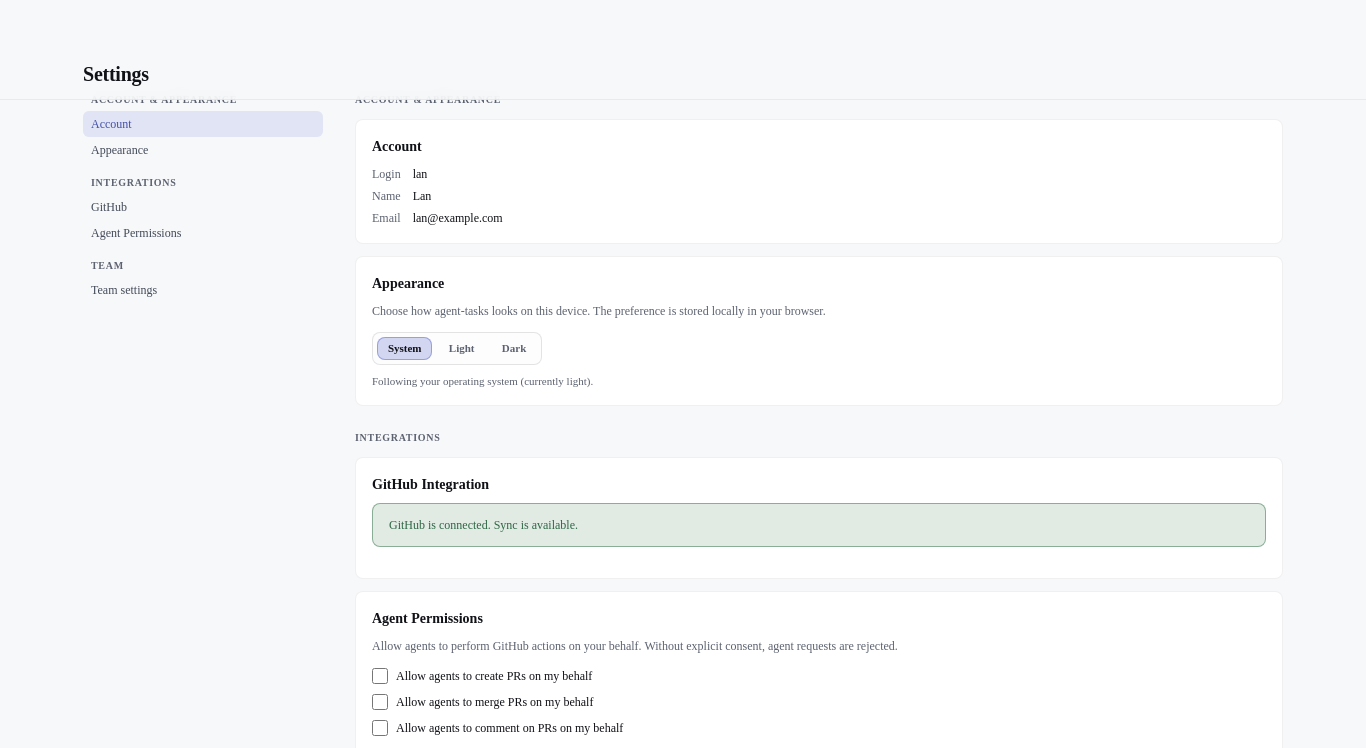
Test: SettingsPage (personal) › reports a failed delegation save inside the Agent Permissions card
This screenshot has width=1366, height=748.
expect the heading "Account" is shown: met, box [372, 139, 422, 154]
Step 1. Click the checkbox labelled "Allow agents to create PRs on my behalf" → {"x": 380, "y": 676}, box [372, 668, 388, 684]
(page scrolled)
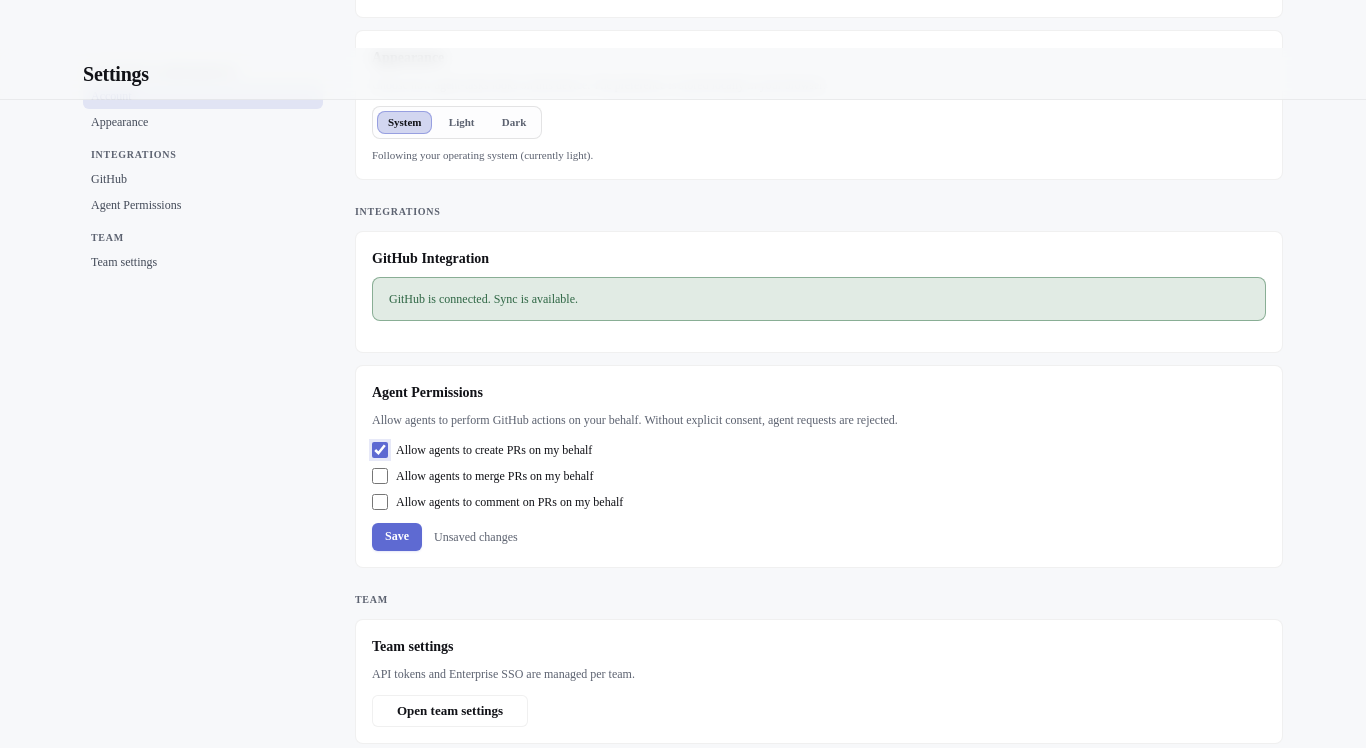
Step 2. Click the button "Save" → {"x": 397, "y": 537}, box [372, 523, 422, 551]
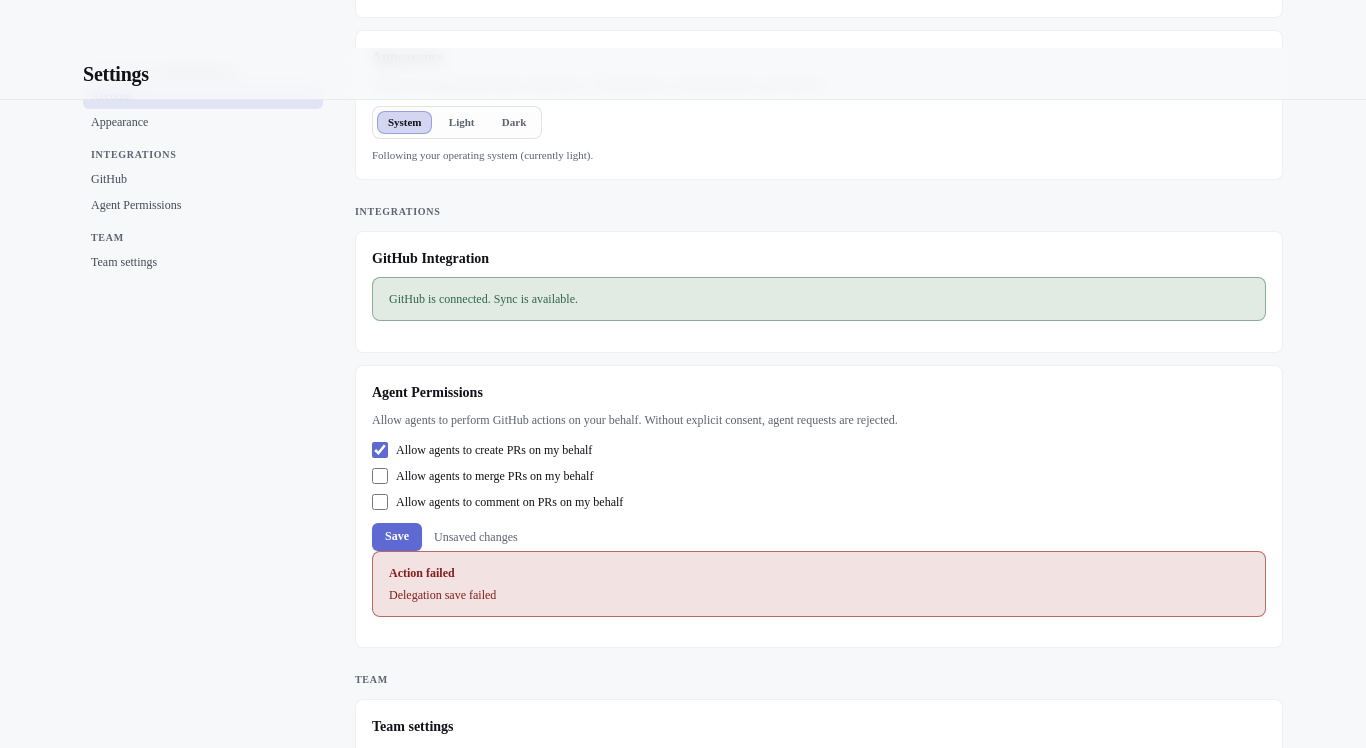
expect the text "Delegation save failed" is shown: met, box [389, 588, 496, 602]
